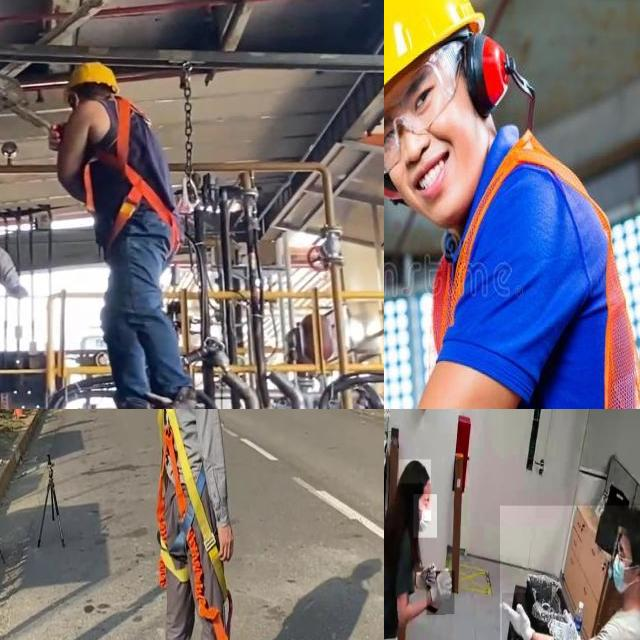Ear-protection: (462, 24, 517, 118)
Harness: (76, 90, 180, 272), (158, 409, 233, 640)
face_mask: (606, 548, 634, 600), (413, 494, 437, 538)
glasses: (384, 43, 470, 165)
hand_glove: (501, 592, 538, 640), (427, 571, 455, 615)
head_helmet: (384, 0, 486, 141)
head_nohelmet: (399, 460, 431, 484), (621, 505, 640, 536)
person: (384, 0, 640, 409), (500, 505, 640, 640), (384, 457, 446, 640)
vest: (430, 130, 640, 409)
